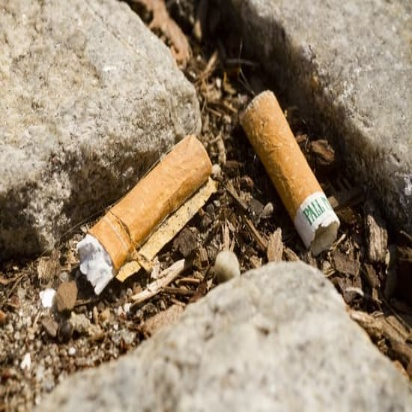cigarette: (76, 125, 215, 294), (232, 85, 343, 260)
